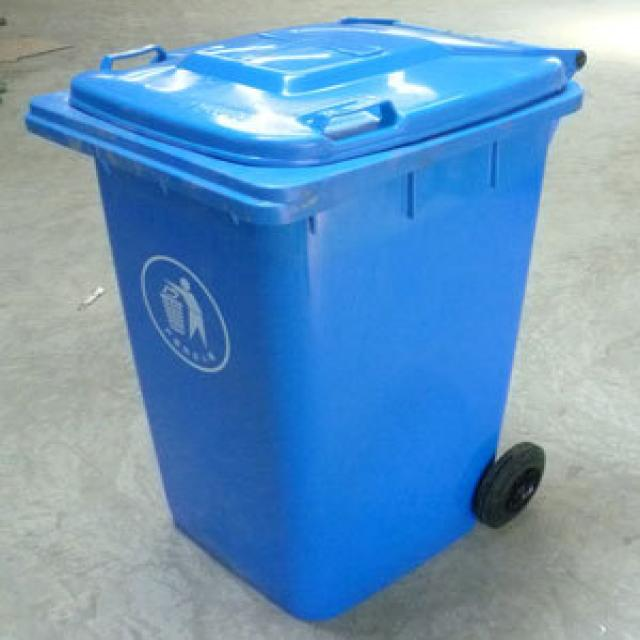garbage_bin: (22, 14, 584, 620)
